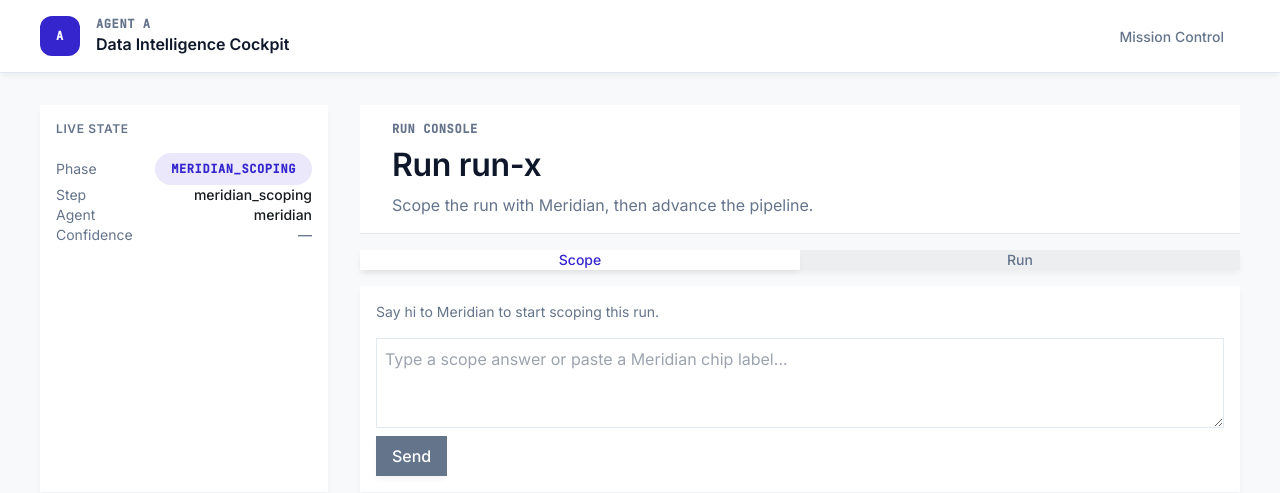
Test: RunConsole › disables the advance button and shows the chat-gate message in meridian_scoping
Click the tab "Run". click: coordinates (1020, 260)
box: [800,250,1240,270]
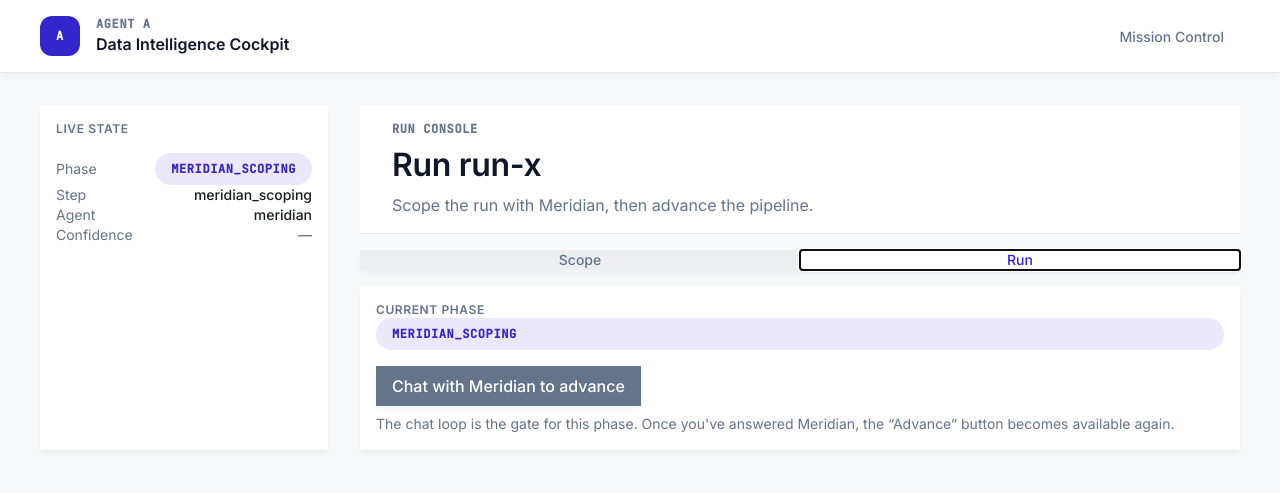
expect the button with test id "advance-button" is disabled: met, box [376,366,641,406]
